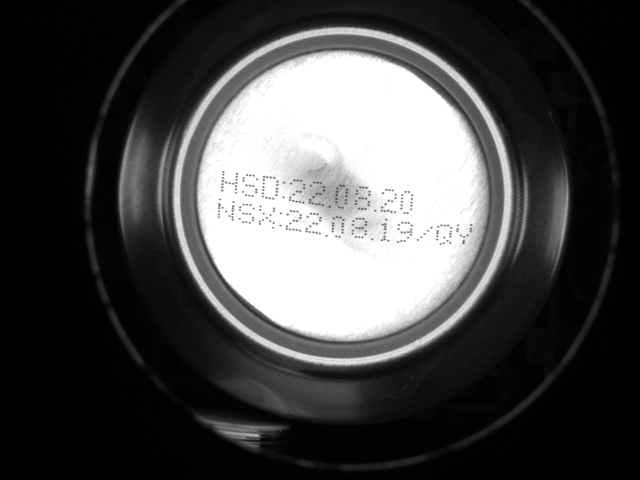/: (417, 221, 438, 243)
0: (398, 190, 420, 214), (335, 180, 351, 211), (329, 216, 349, 239)
1: (375, 219, 393, 244)
2: (376, 186, 400, 216), (287, 175, 310, 204), (285, 208, 305, 234), (309, 178, 327, 206), (306, 213, 327, 236)
8: (349, 215, 373, 240), (356, 183, 373, 211)
9: (398, 216, 414, 243)
D: (260, 174, 282, 200)
H: (219, 169, 243, 194)
N: (216, 199, 236, 221)
Q: (436, 222, 453, 245)
S: (243, 173, 259, 197), (239, 203, 256, 225)
X: (258, 204, 276, 227)
Y: (456, 220, 474, 245)
